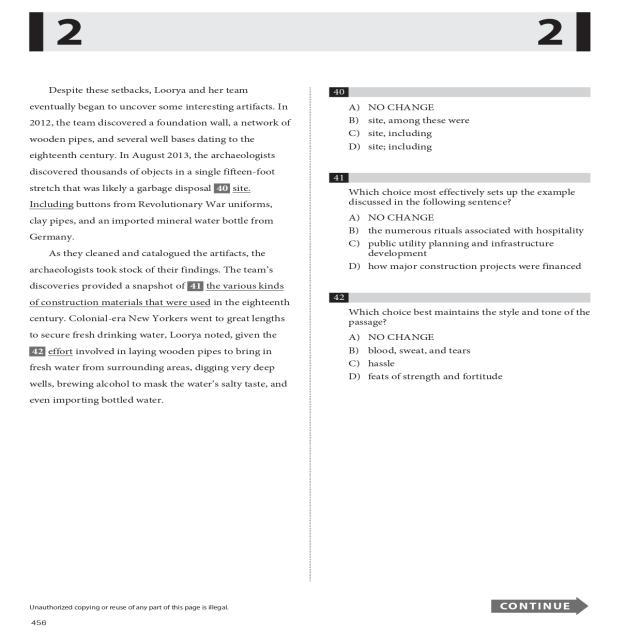Answer_Block: (322, 210, 614, 276), (322, 330, 614, 386), (322, 101, 614, 155)
Instruction: (21, 80, 302, 582)
Question_Answer_Block: (322, 172, 614, 276), (322, 290, 614, 386), (322, 81, 614, 155)
Question_Block: (322, 290, 614, 330), (322, 172, 614, 210), (322, 82, 614, 100)
Question_Paper_Area: (322, 82, 614, 582), (21, 80, 302, 582)
